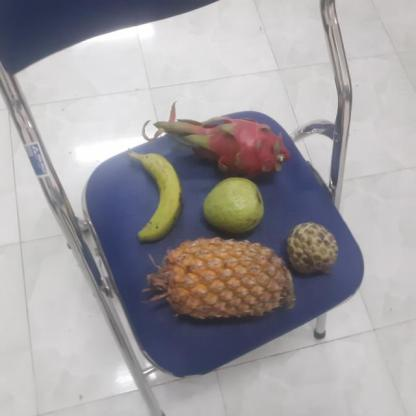annona: (282, 223, 338, 275)
banana: (132, 151, 184, 242)
guava: (201, 177, 268, 235)
pineapple: (149, 238, 297, 322)
pitaya: (192, 114, 285, 180)
